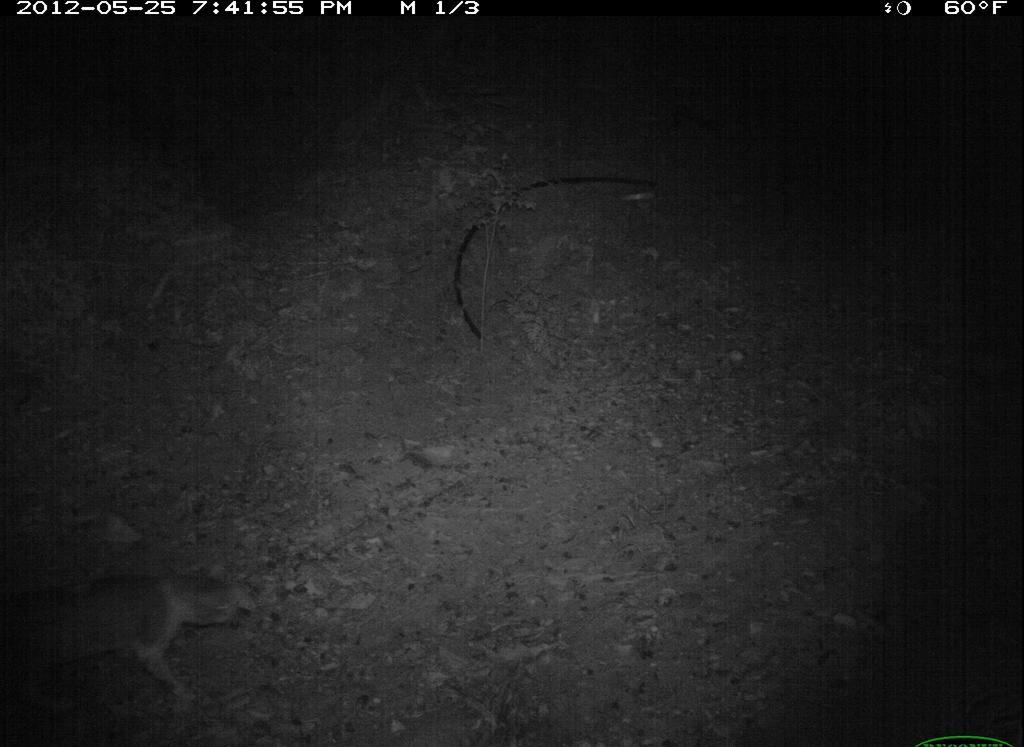cat: (4, 571, 250, 705)
